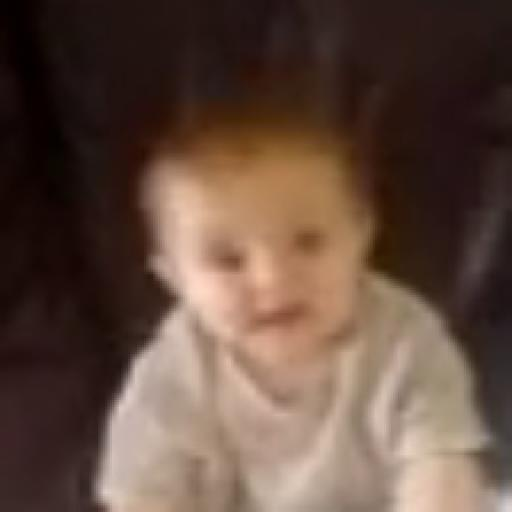Autism: (134, 151, 423, 434)
